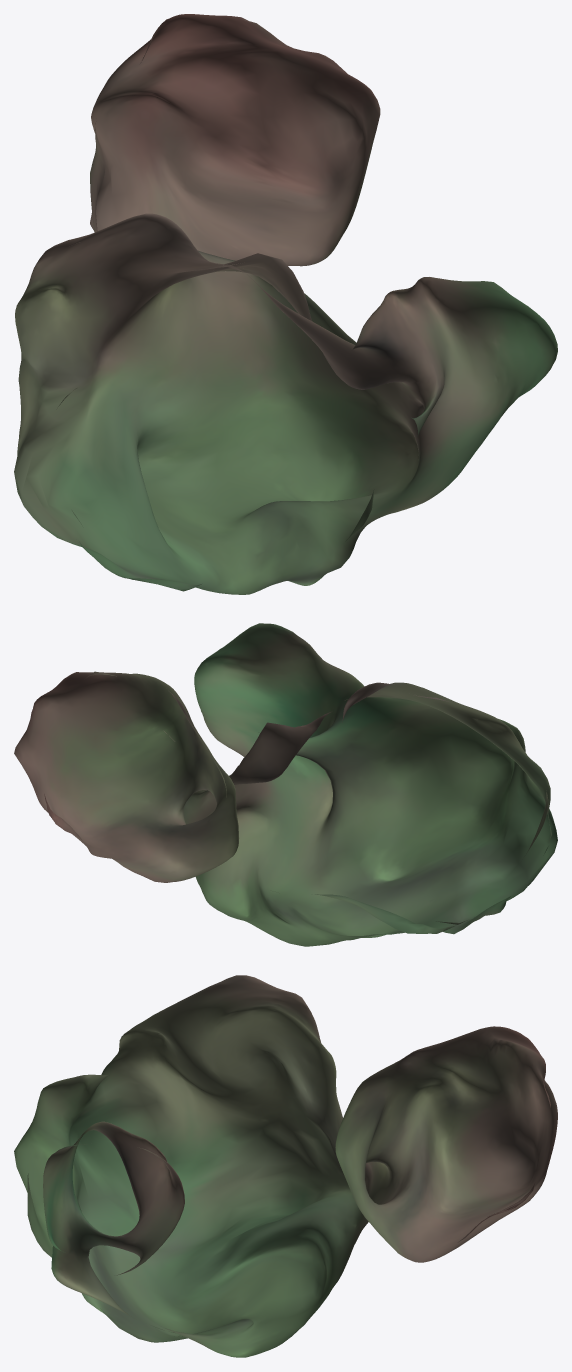
The model's file is Cloud1_LOD0.glb.
3 renders of one model, top to bottom at view 1: azimuth 30°, elevation 25°; view 2: azimuth 150°, elevation 25°; view 3: azimuth 270°, elevation 25°, orthographic. The views are drawn at different scales.
Visible parts, largest first — view 1: Cloud1_LOD0; view 2: Cloud1_LOD0; view 3: Cloud1_LOD0.
Boxes of the visible parts, box(x1,y1,x2,y2) form: Cloud1_LOD0: box(14, 14, 557, 594); Cloud1_LOD0: box(14, 623, 557, 946); Cloud1_LOD0: box(14, 975, 557, 1357).
Bounding box in the file's own units: 0.8972 × 0.7093 × 0.9986.
